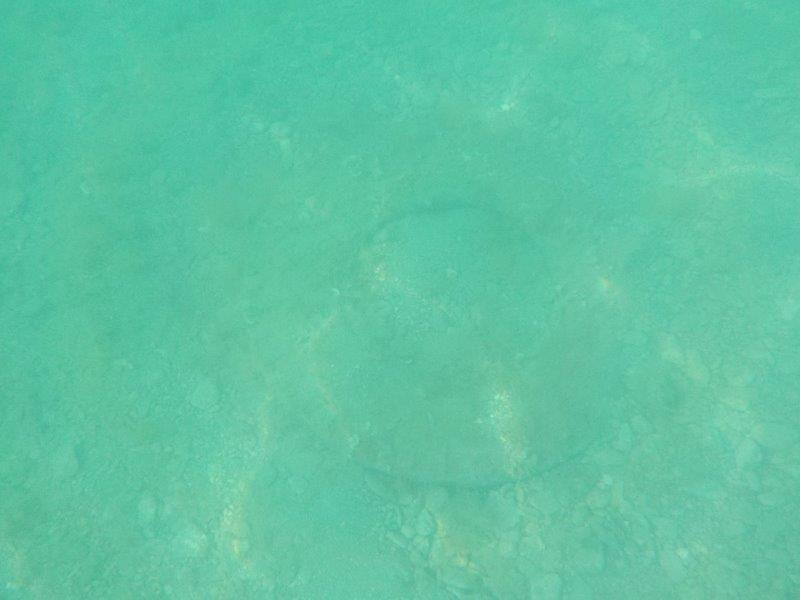tire: (245, 137, 637, 499)
